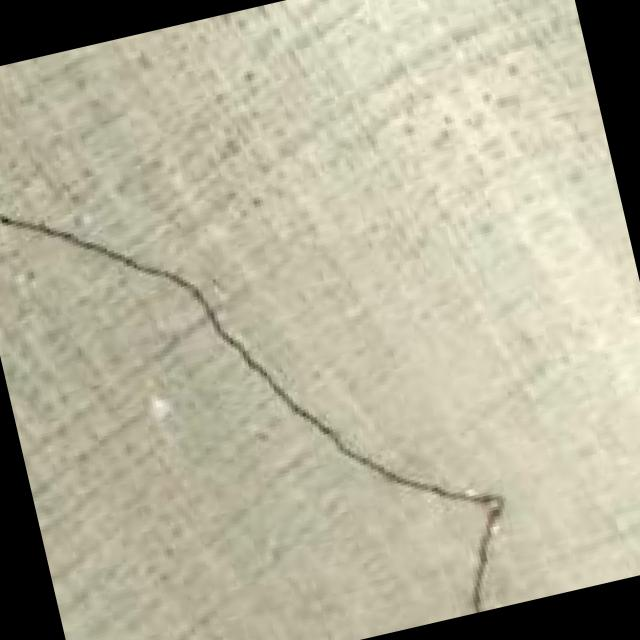crack: (0, 87, 550, 640)
